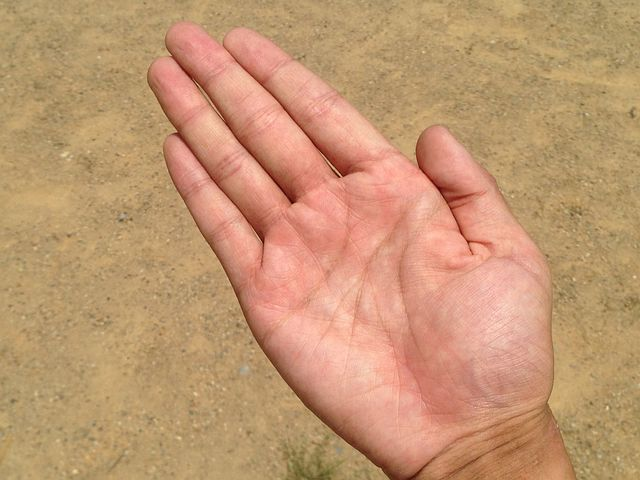palmhand: (153, 23, 557, 463)
